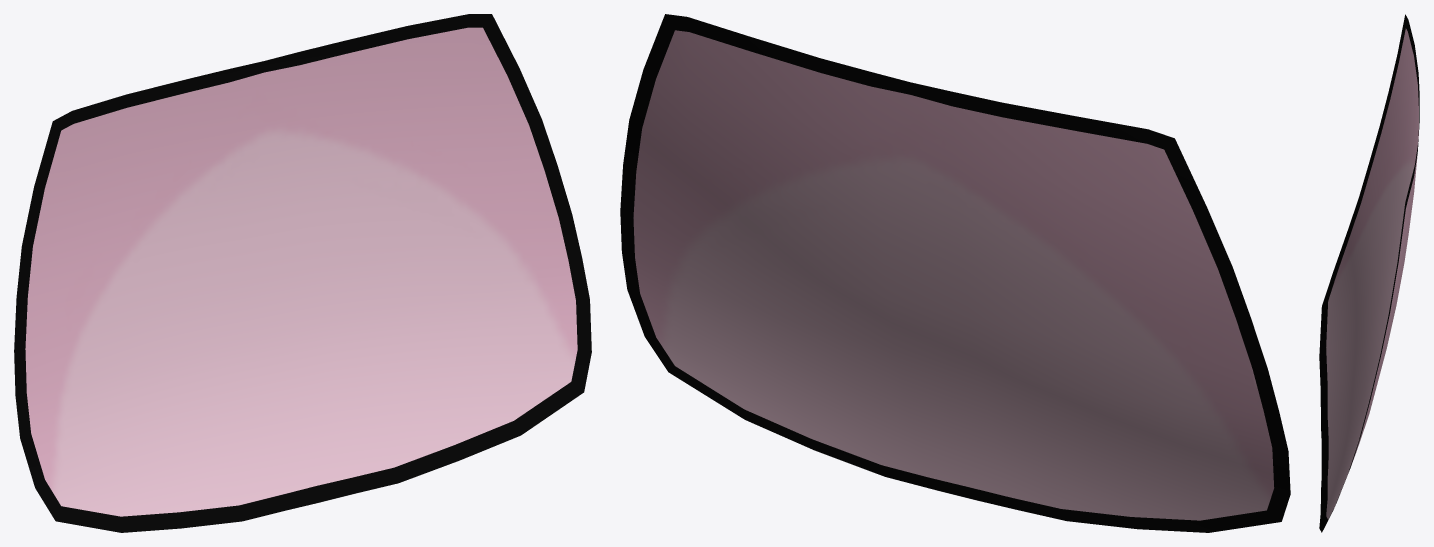
Rendered from 31-Cute-Dizziness-Overwhelmed-face-mouth.glb.
3 renders of one model, left to right at view 1: azimuth 30°, elevation 25°; view 2: azimuth 150°, elevation 25°; view 3: azimuth 270°, elevation 25°, orthographic. The views are drawn at different scales.
Visible parts, largest first — view 1: 31-Cute-Dizziness-Overwhelmed-face-mouth; view 2: 31-Cute-Dizziness-Overwhelmed-face-mouth; view 3: 31-Cute-Dizziness-Overwhelmed-face-mouth.
Part boxes in pixels (x1,y1,x2,y2): 31-Cute-Dizziness-Overwhelmed-face-mouth: [14, 14, 591, 532]; 31-Cute-Dizziness-Overwhelmed-face-mouth: [620, 14, 1290, 532]; 31-Cute-Dizziness-Overwhelmed-face-mouth: [1319, 14, 1419, 532].
Bounding box in the file's own units: 0.2221 × 0.1504 × 0.0385.
1 material, 1 textured.
